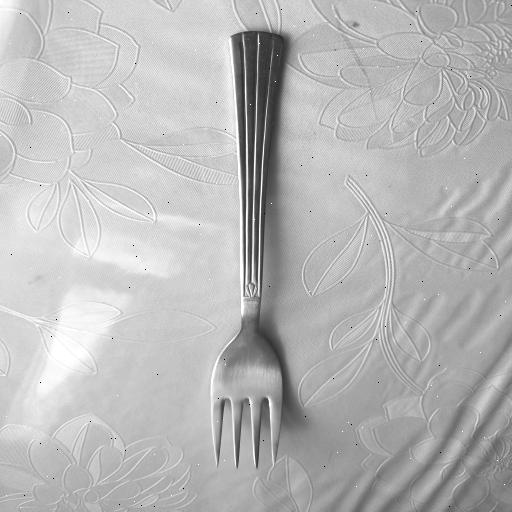fork: (207, 30, 287, 470)
